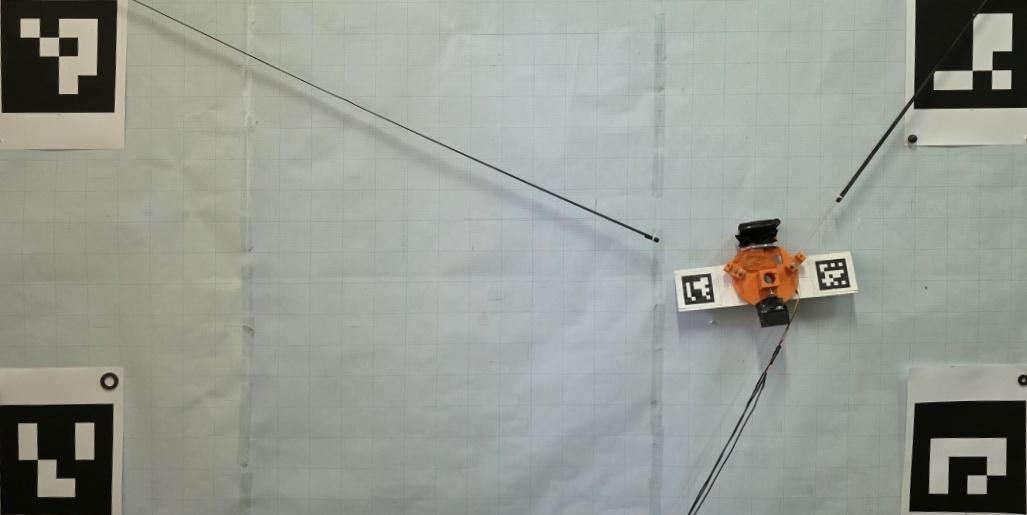robot: (724, 219, 806, 328)
